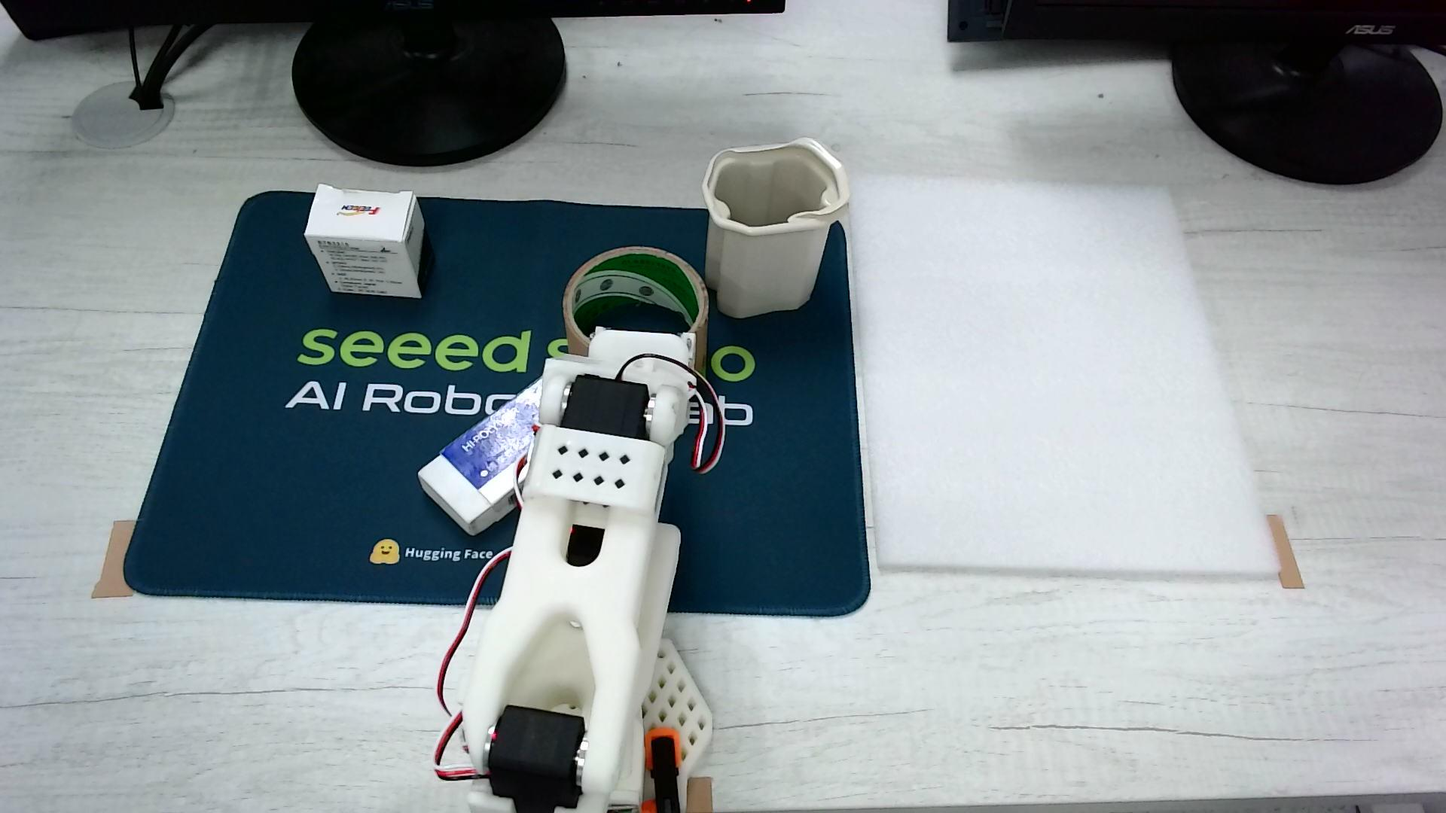eraser: (304, 184, 429, 298)
